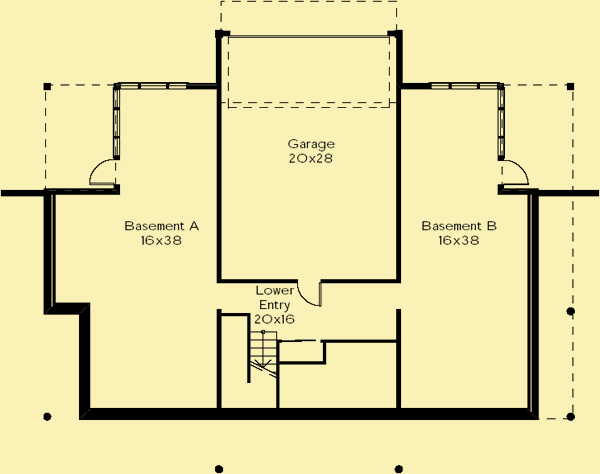door: (498, 157, 530, 189), (88, 156, 118, 187), (295, 279, 324, 309)
stairs: (250, 329, 280, 382)
window: (115, 82, 189, 92), (427, 81, 499, 90)
